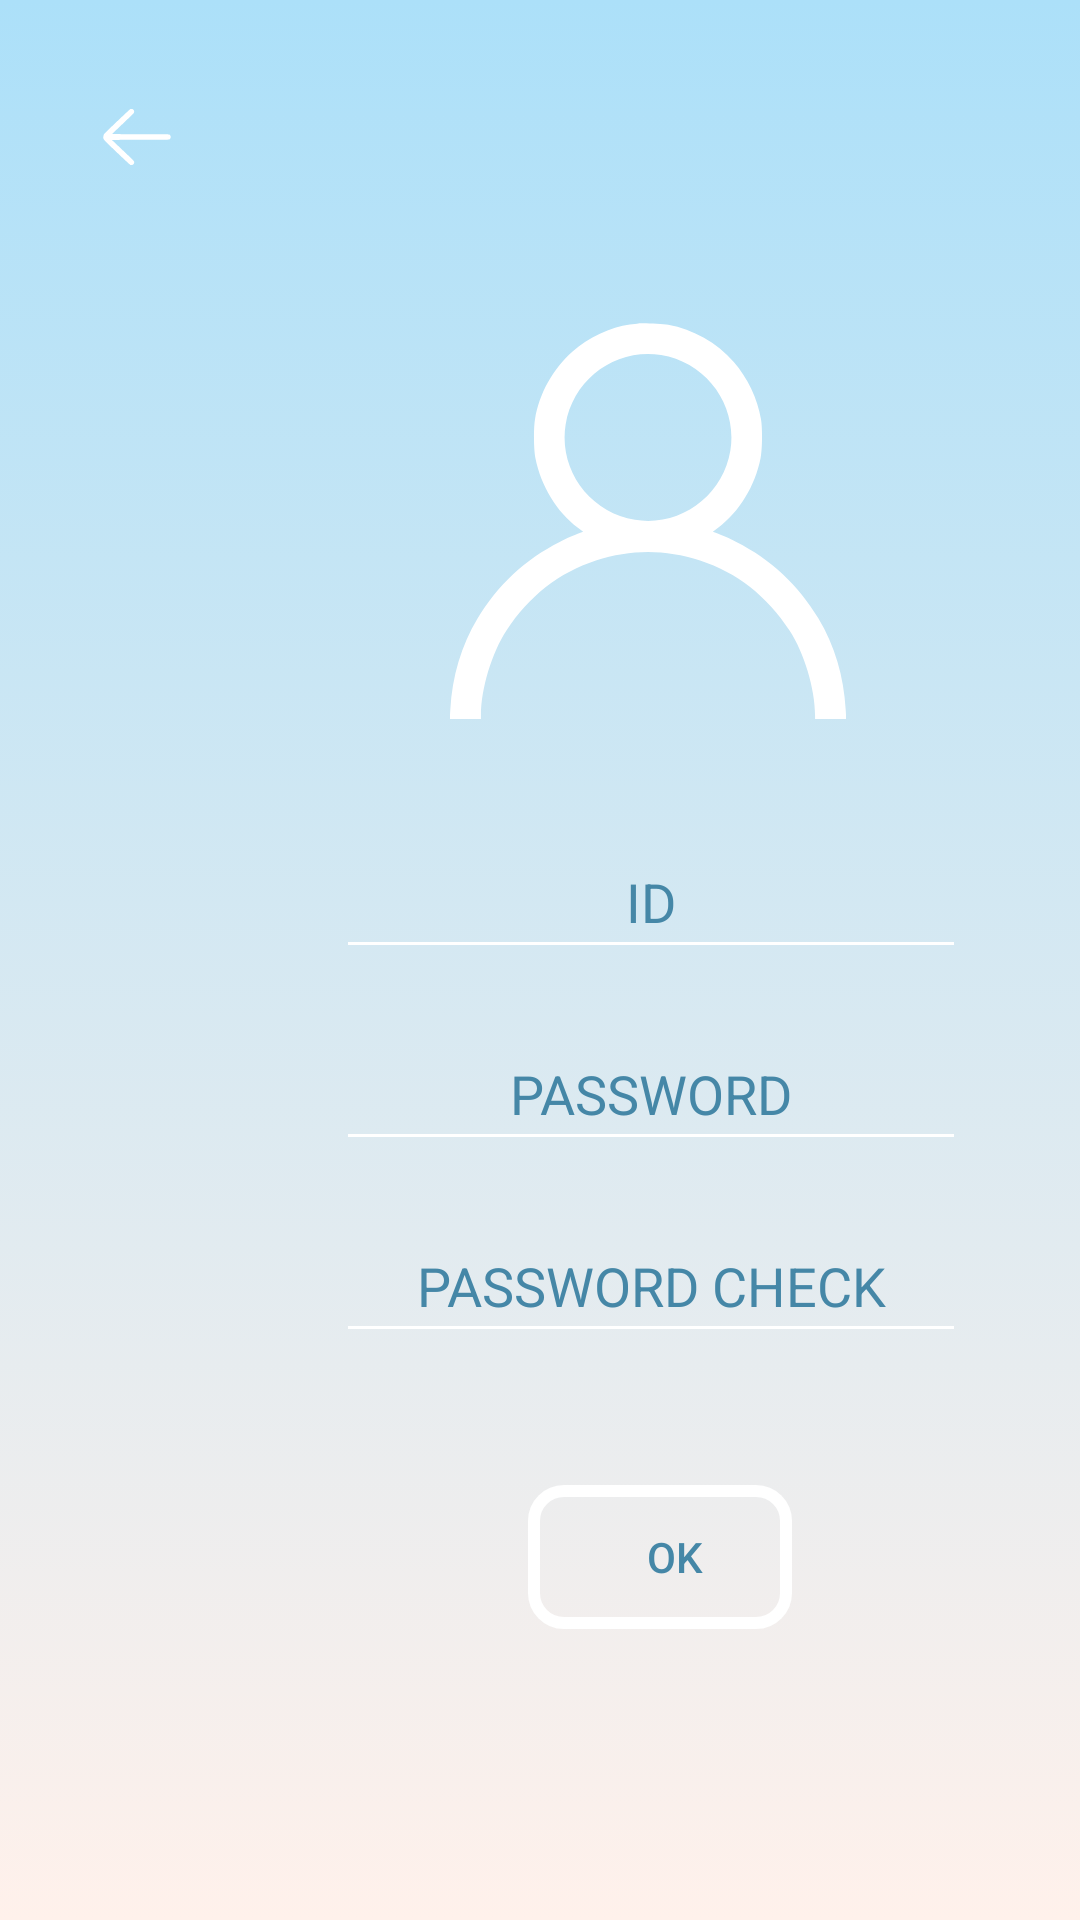

Screen size 1080x1920. Icon name, then its center in pixels as point (x, y):
left arrow: point (137, 137)
